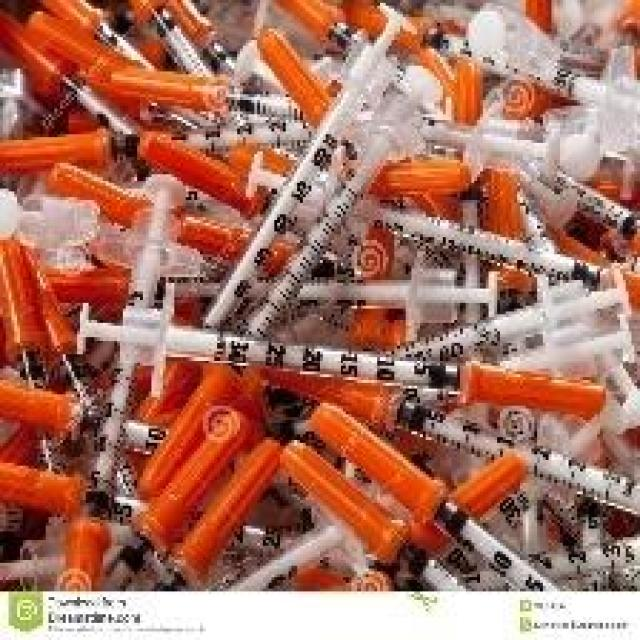syringe: (7, 6, 633, 590), (85, 295, 638, 457)
